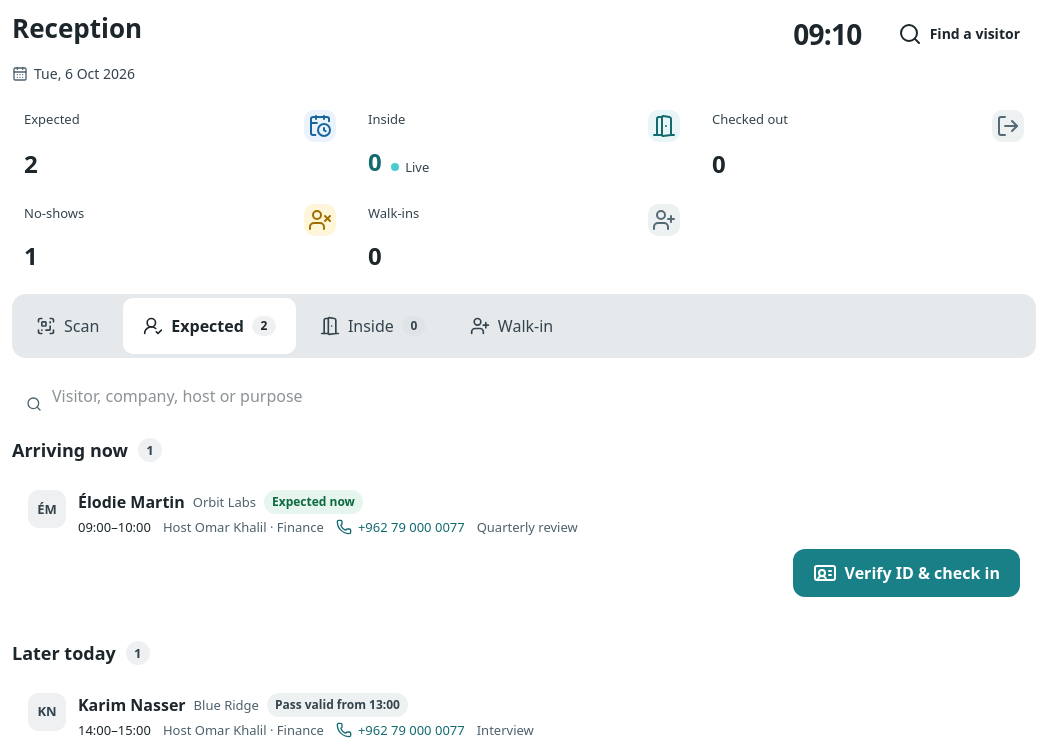
Test case: Expected tab › filters the list inline by visitor, company, host or purpose
Expected: the text "Élodie Martin" is shown, top-left (78, 491), bottom-right (185, 513)
Type "interview" into the search field with placeholder "Visitor, company, host or purpose" at (524, 396), box top-left (12, 374), bottom-right (1036, 418)
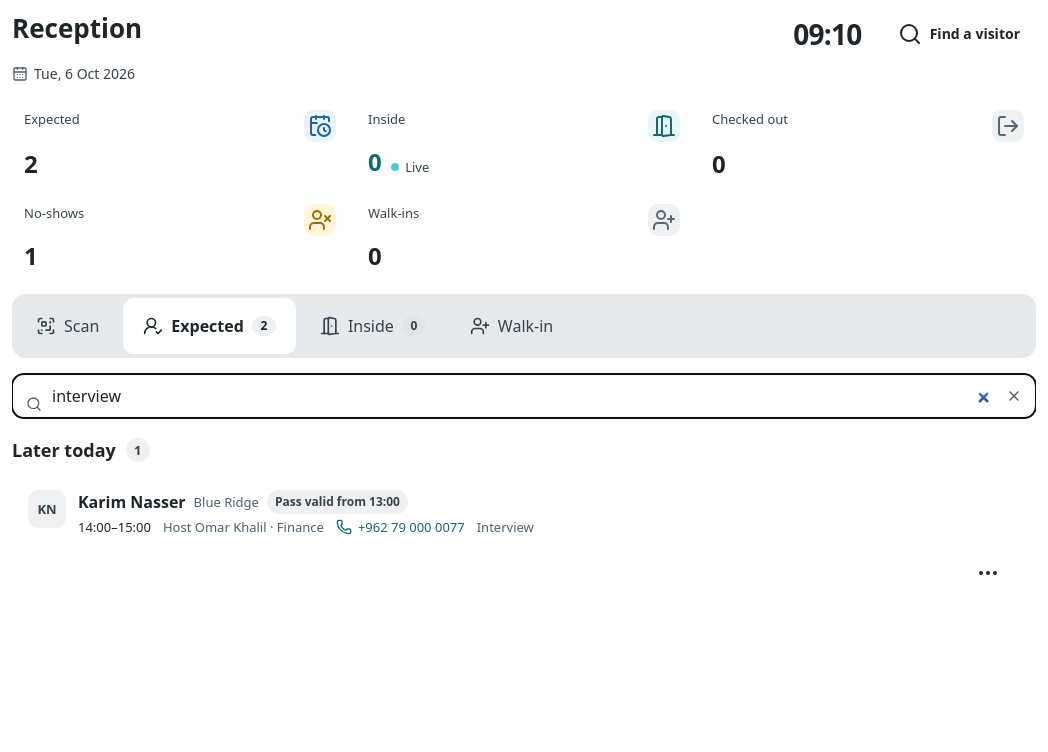
Expected: the text "Karim Nasser" is shown, top-left (78, 491), bottom-right (186, 513)
Result: the text "Élodie Martin" is gone
Replace the text in the search field named "Filter expected visitors" with "zzz" at (524, 396), box top-left (12, 374), bottom-right (1036, 418)
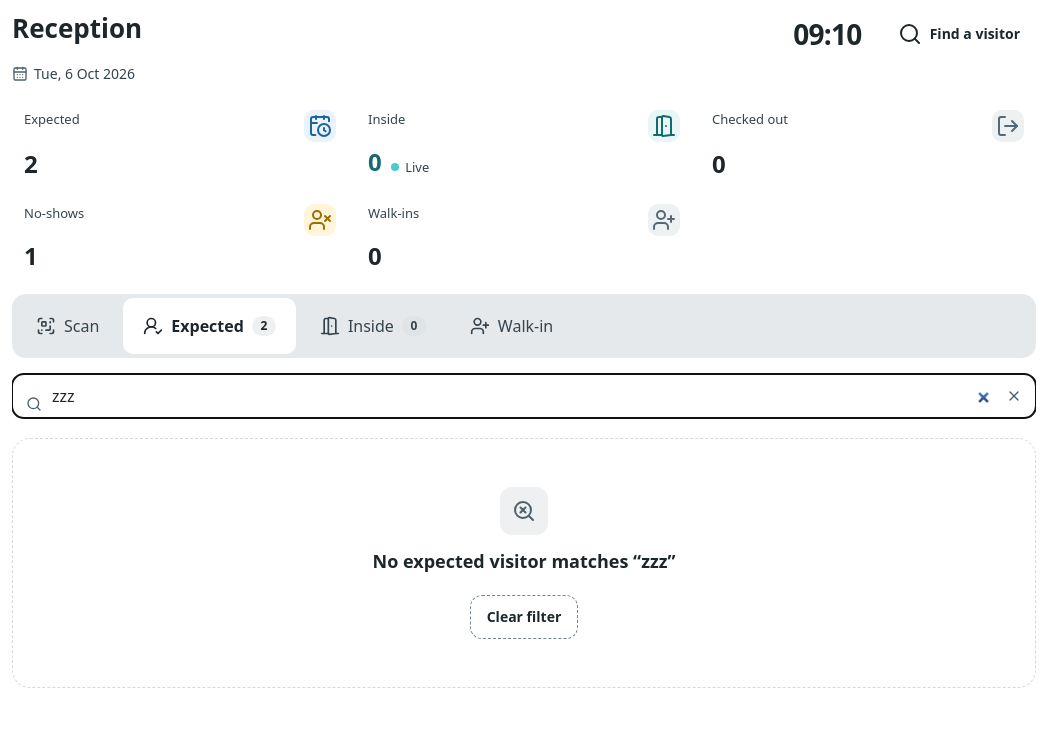
Result: the heading "No expected visitor matches “zzz”" is shown at top-left (372, 547), bottom-right (676, 575)
